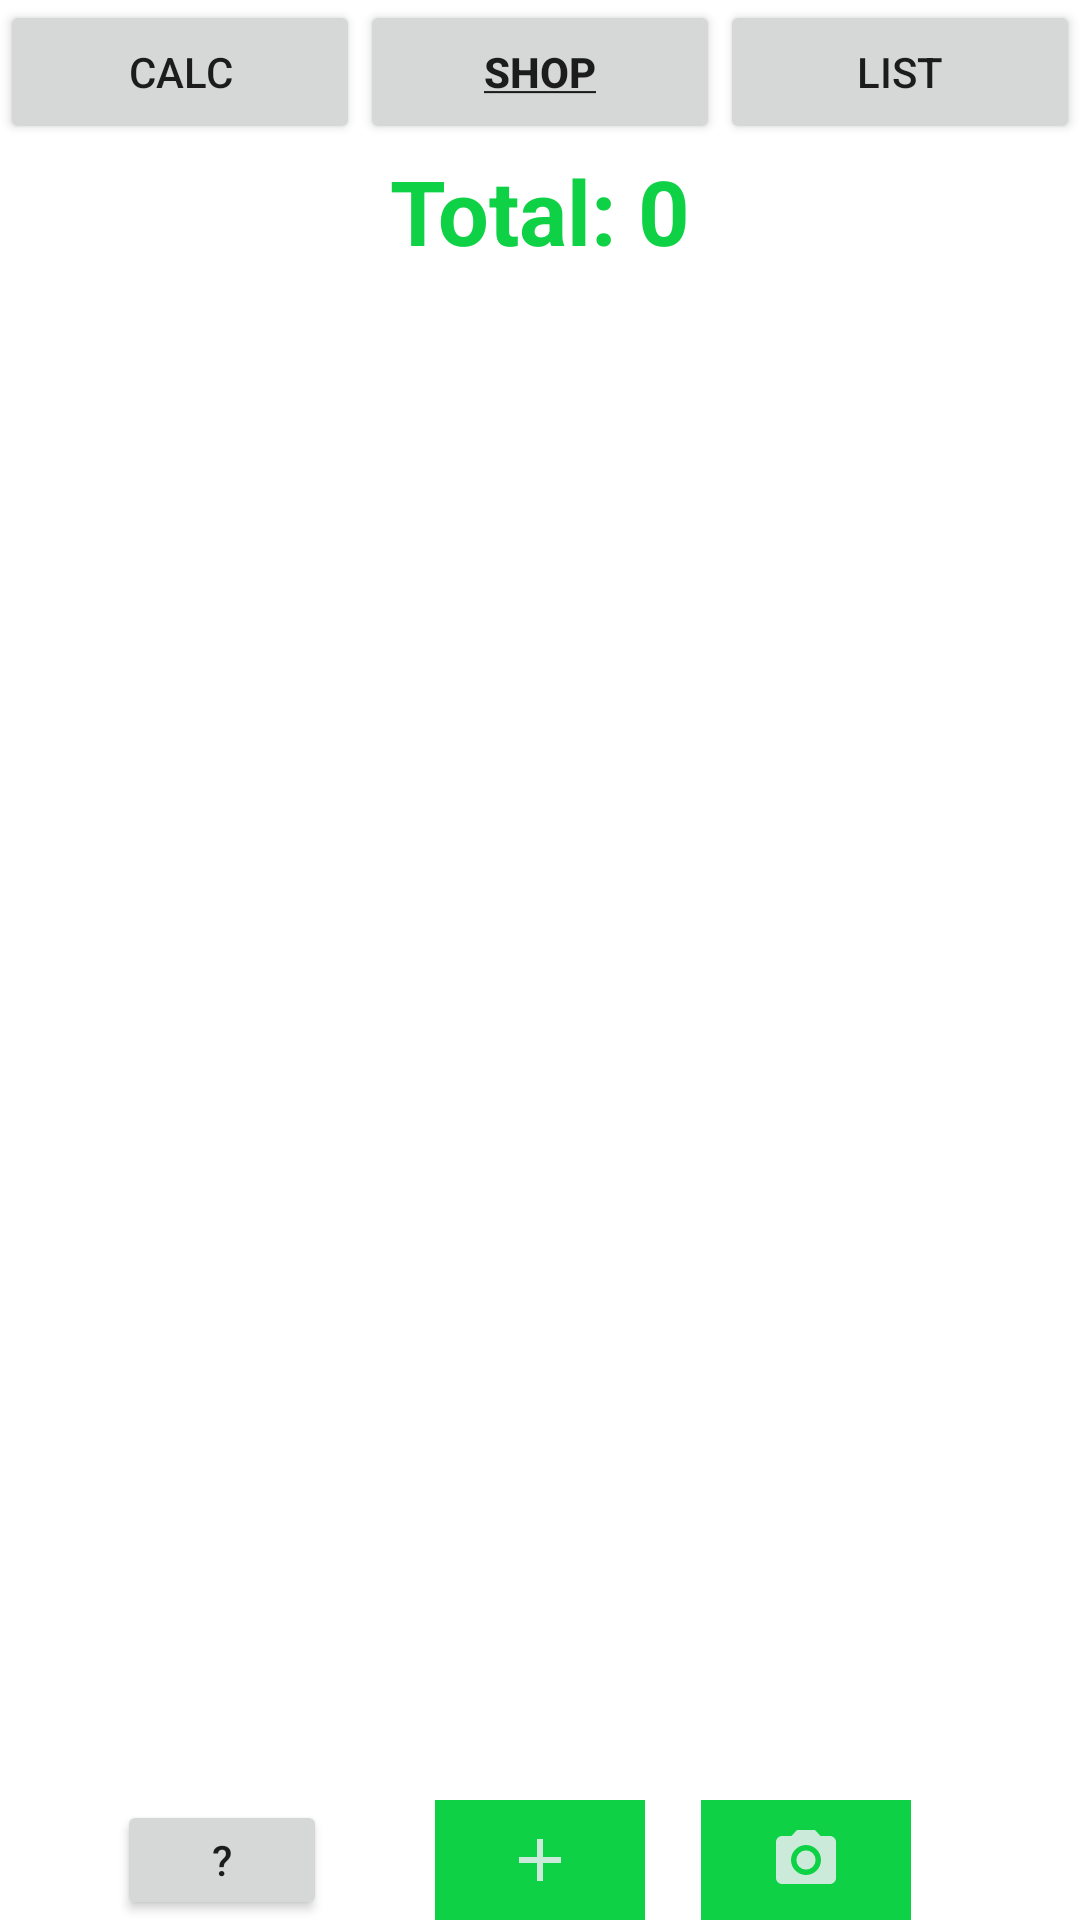

Point at icon controls on the screen. Image size 1080 x 1920, points as point (x, y).
plus: point (540, 1860)
slika: point (806, 1860)
